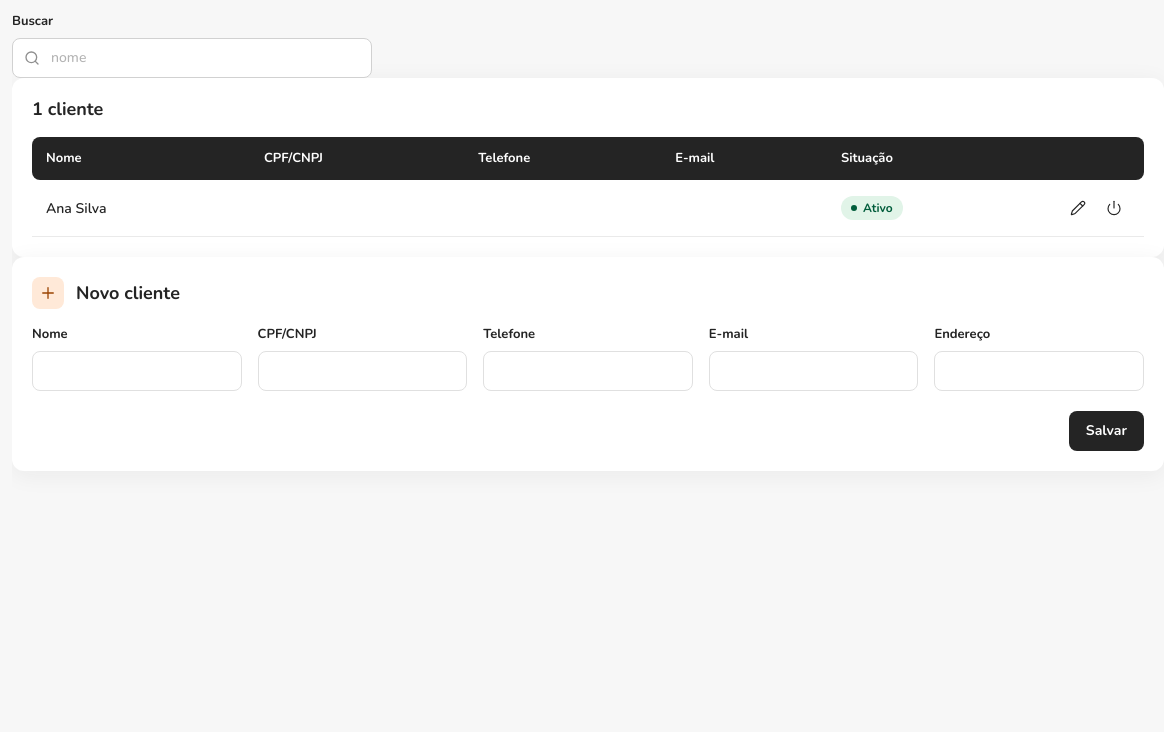
Test case: Customers page › updates the row without reloading
This screenshot has width=1164, height=732.
Expected: the text "Ana Silva" is shown, [32, 180, 250, 237]
Type "Novo Cliente" into the field labelled "Nome" at point(137, 371), box [32, 351, 242, 391]
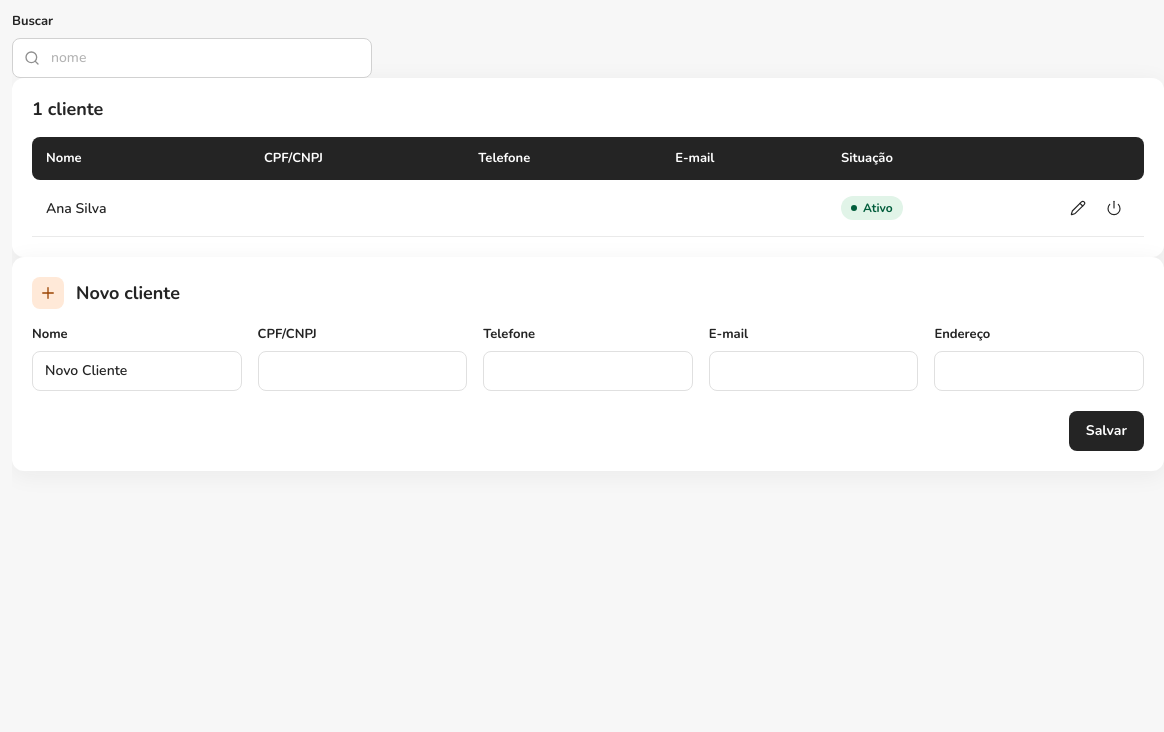
Click the button "Salvar" at point(1106, 431), box [1069, 411, 1144, 451]
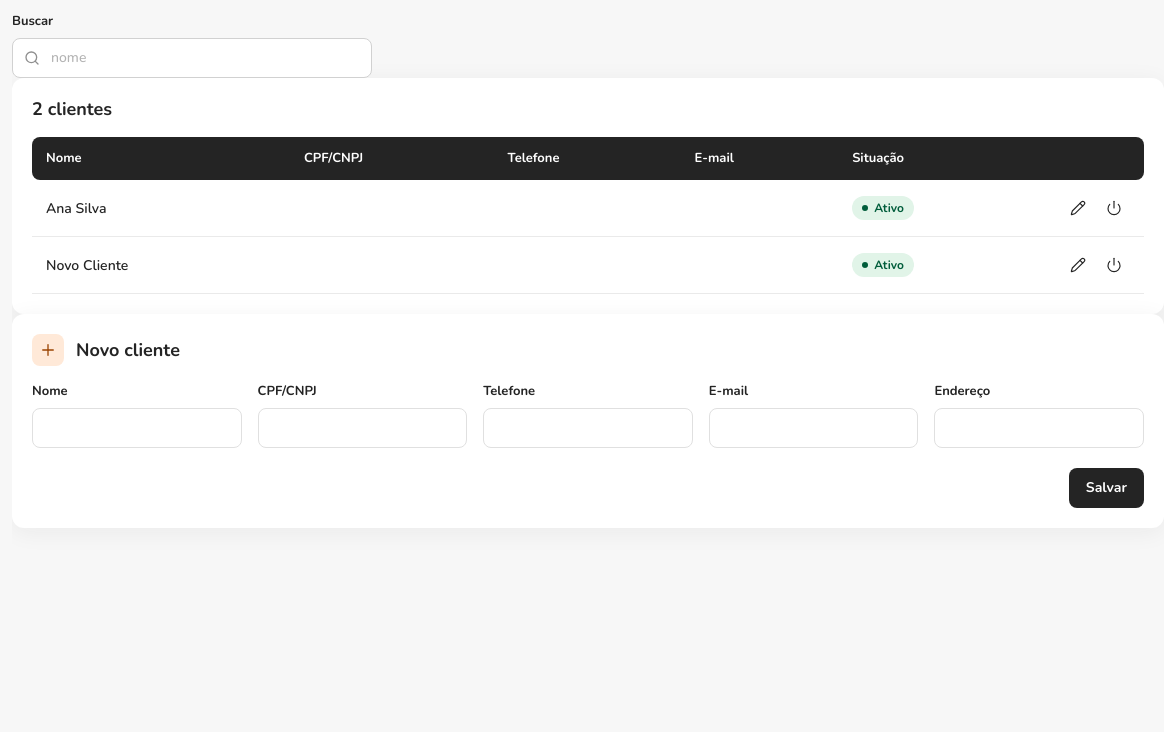
Result: the text "Novo Cliente" is shown at [32, 237, 290, 294]
Click the button named "Editar" in the row of "Ana Silva" at point(1078, 208), box [1062, 192, 1094, 224]
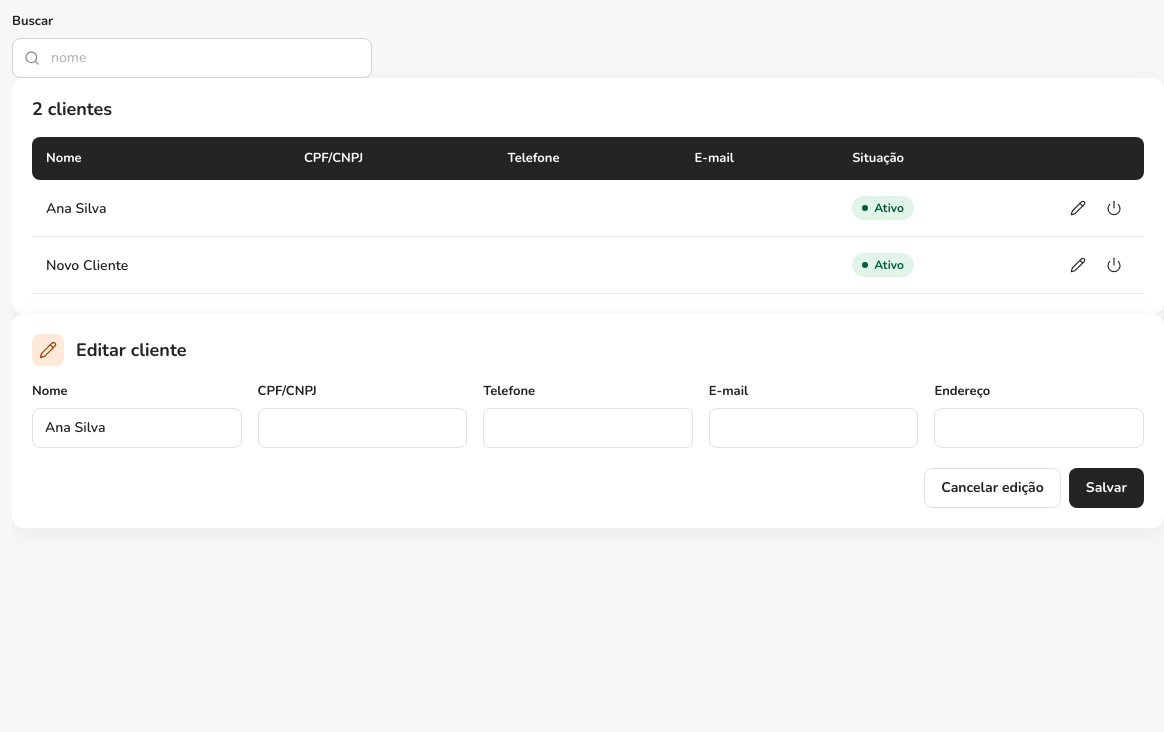
Type "11999990000" into the field labelled "Telefone" at point(588, 428), box [483, 408, 693, 448]
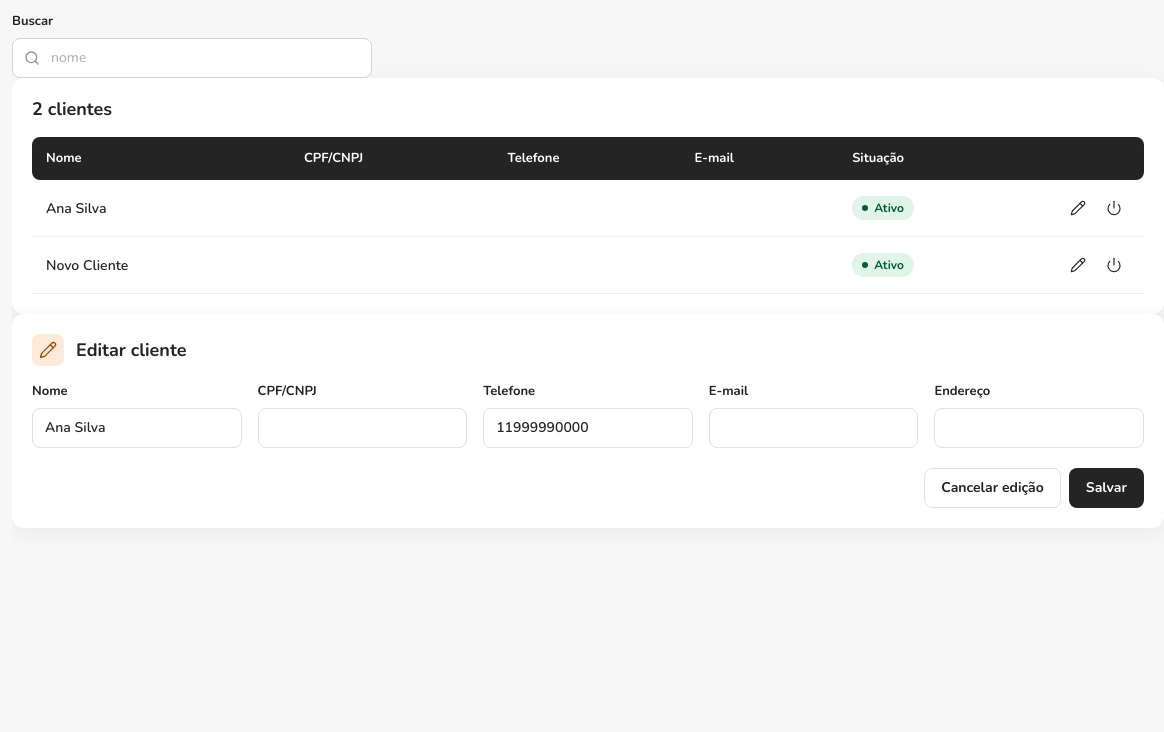
Click the button "Salvar" at point(1106, 488), box [1069, 468, 1144, 508]
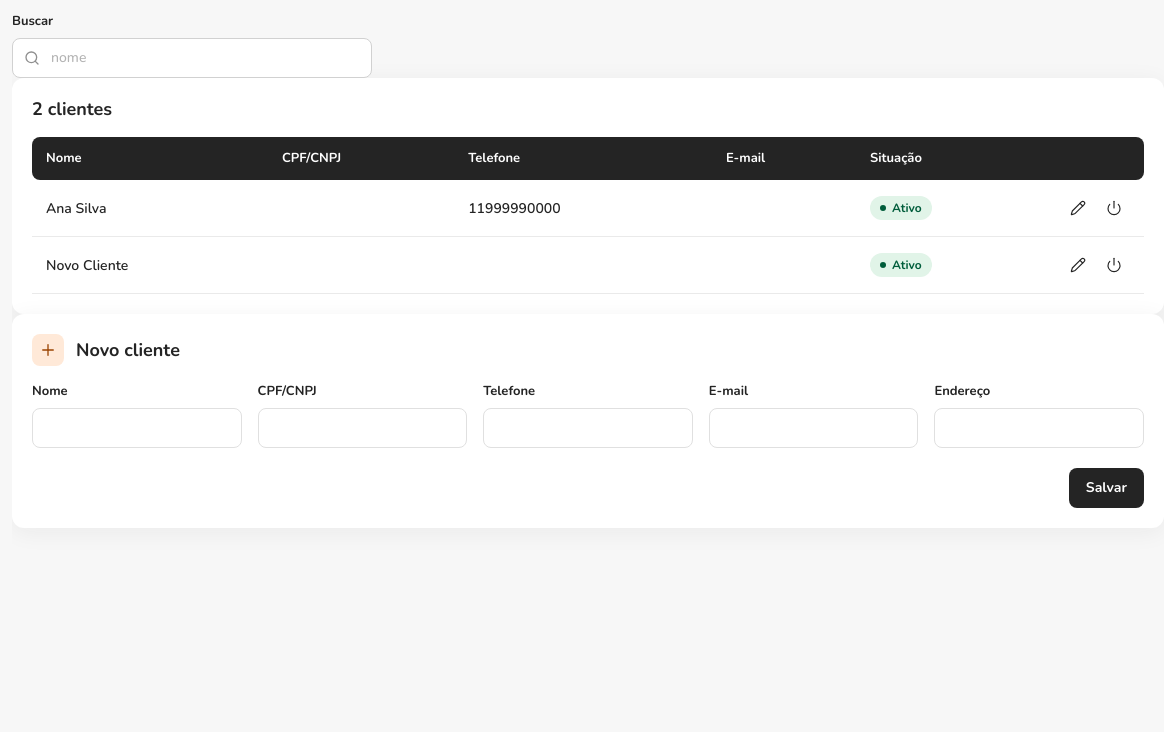
Result: the text "11999990000" is shown at [454, 180, 712, 237]
